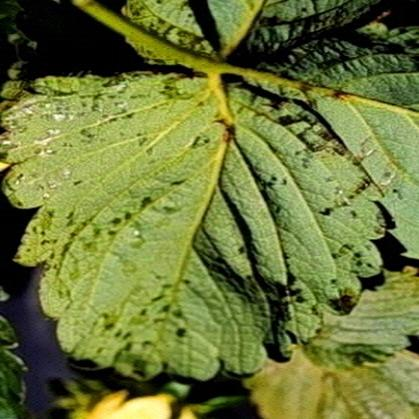Angular Leafspot: (0, 71, 386, 382), (119, 0, 387, 70)
